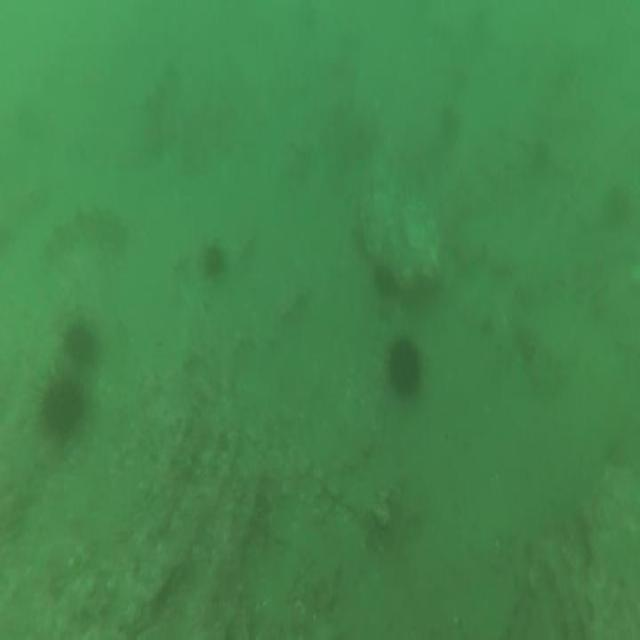echinus: (42, 384, 79, 428), (391, 344, 422, 396), (66, 324, 93, 359), (373, 264, 392, 299), (202, 246, 221, 275)
